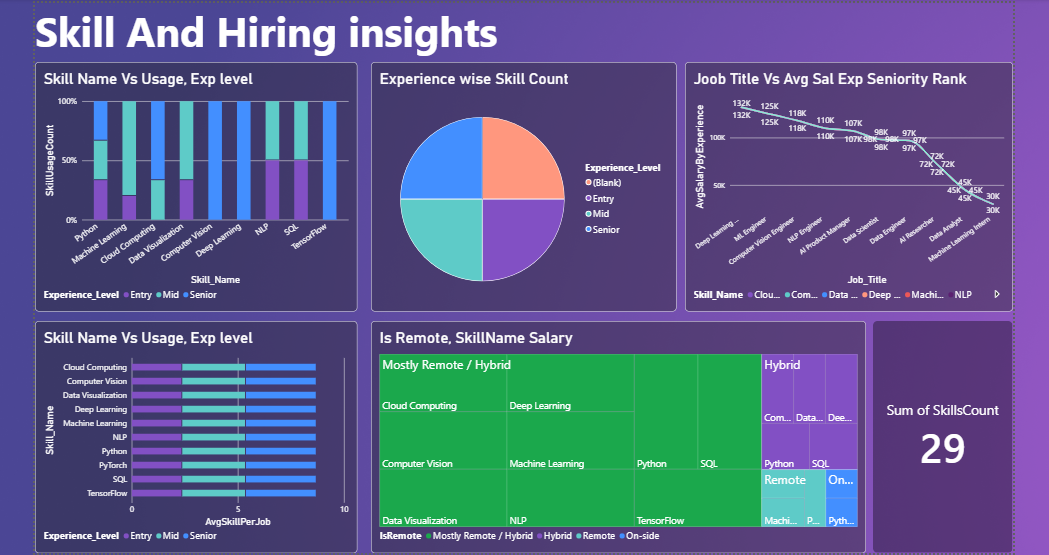

The page's visual inventory and layout, read from the dashboard file:
{"tool":"powerbi","page":{"name":"Skill And Hiring Insights","canvas":[1920,1080],"ordinal":3},"visuals":[{"type":"hundredPercentStackedColumnChart","title":"Skill Name Vs Usage, Exp level","fields":{"Series":["Fact_Jobs.Experience_Level"],"Category":["Dim_Skills.Skill_Name"],"Y":["Dim_Skills.SkillUsageCount"]},"box":[0,116.6,632.9,490.3],"z":0},{"type":"textbox","box":[0,0,989.3,116.6],"z":1000},{"type":"treemap","title":"Is Remote, SkillName Salary","fields":{"Group":["Fact_Jobs.IsRemote"],"Details":["Dim_Skills.Skill_Name"],"Values":["Sum(Fact_Jobs.Salary_USD)"]},"box":[658.8,624.2,972,455.8],"z":2000},{"type":"cardVisual","title":"Total Jobs","fields":{"Data":["Sum(Fact_Jobs.SkillsCount)"]},"box":[1645.9,624.2,274.3,455.8],"z":3000},{"type":"lineChart","title":"Joob Title Vs Avg Sal Exp Seniority Rank","fields":{"Series":["Dim_Skills.Skill_Name"],"Category":["Fact_Jobs.Job_Title"],"Y":["Fact_Jobs.AvgSalaryByExperience"]},"box":[1276.6,116.6,643.7,490.3],"z":4000},{"type":"barChart","title":"Skill Name Vs Usage, Exp level","fields":{"Category":["Dim_Skills.Skill_Name"],"Series":["Fact_Jobs.Experience_Level"],"Y":["Fact_Job_Skills.AvgSkillPerJob"]},"box":[0,624.2,632.9,455.8],"z":5000},{"type":"pieChart","title":"Experience wise Skill Count","fields":{"Y":["CountNonNull(Dim_Skills.Skill_Name)"],"Category":["Fact_Jobs.Experience_Level"]},"box":[658.8,116.6,600.5,490.3],"z":6000}]}

Visuals, with their boxes on the page's 1920x1080 design canvas (x1, y1, x2, y2). These are canvas units, not pixel positions in the 1049x555 screenshot, which may show the page scaled, cropped or inside an application window:
"Skill Name Vs Usage, Exp level" hundredPercentStackedColumnChart: (0, 117, 633, 607)
textbox: (0, 0, 989, 117)
"Is Remote, SkillName Salary" treemap: (659, 624, 1631, 1080)
"Total Jobs" cardVisual: (1646, 624, 1920, 1080)
"Joob Title Vs Avg Sal Exp Seniority Rank" lineChart: (1277, 117, 1920, 607)
"Skill Name Vs Usage, Exp level" barChart: (0, 624, 633, 1080)
"Experience wise Skill Count" pieChart: (659, 117, 1259, 607)
